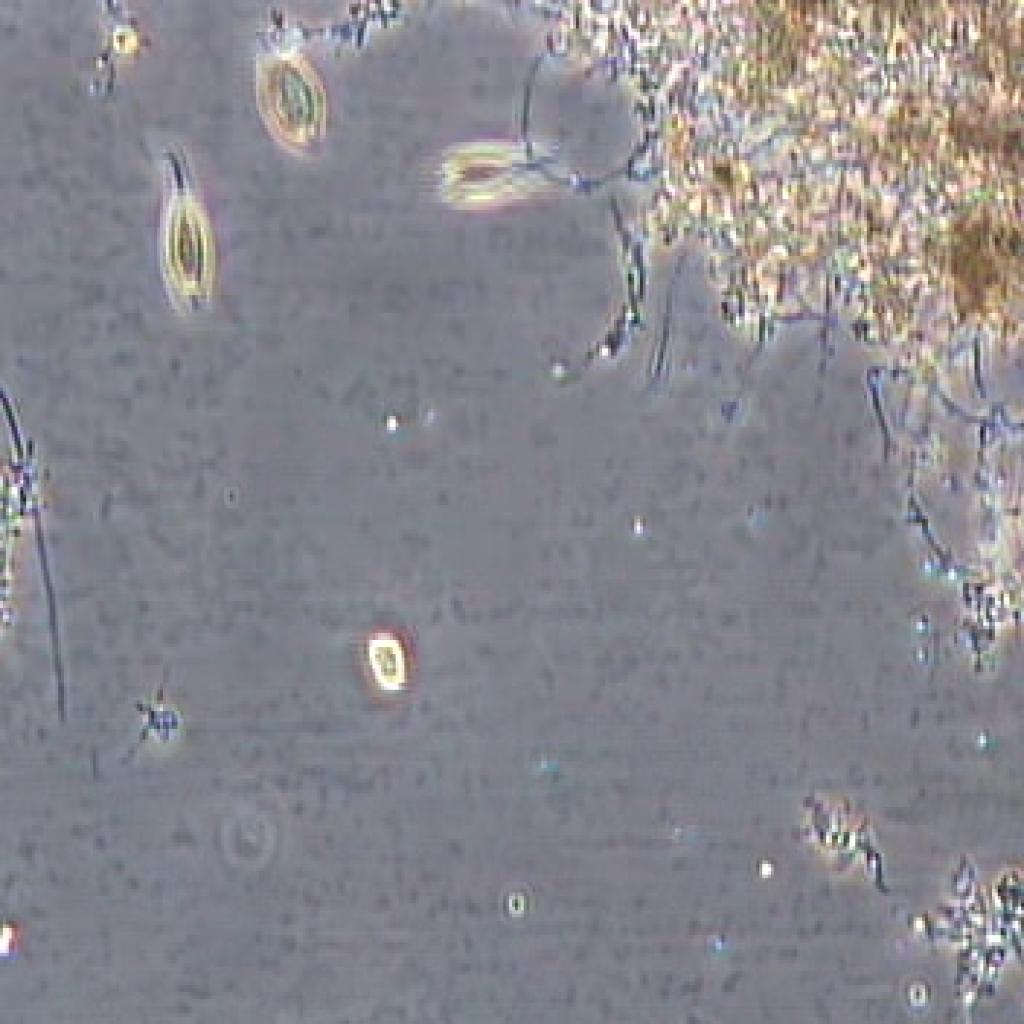Pristina: (141, 144, 246, 332), (425, 116, 541, 222)
